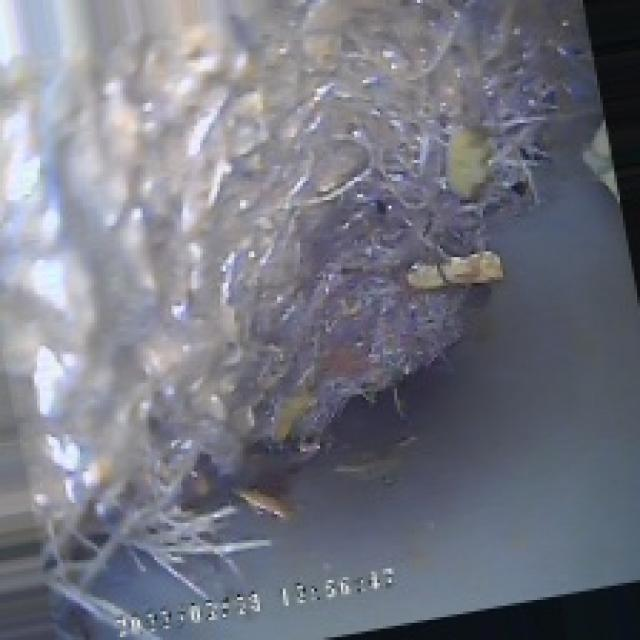sluge accumulation: (17, 20, 589, 546)
